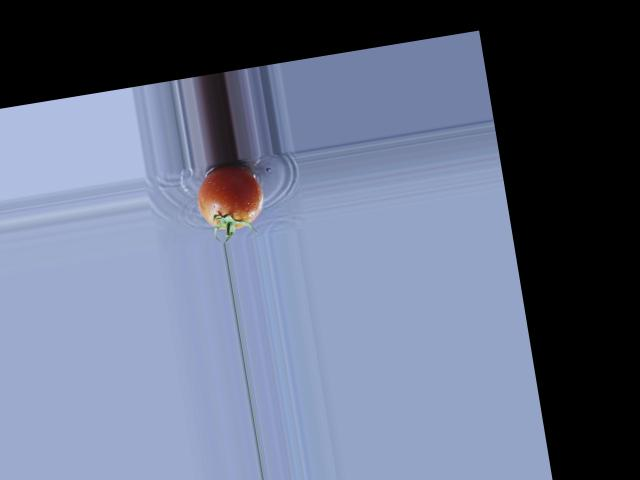tomato: (193, 160, 267, 233)
